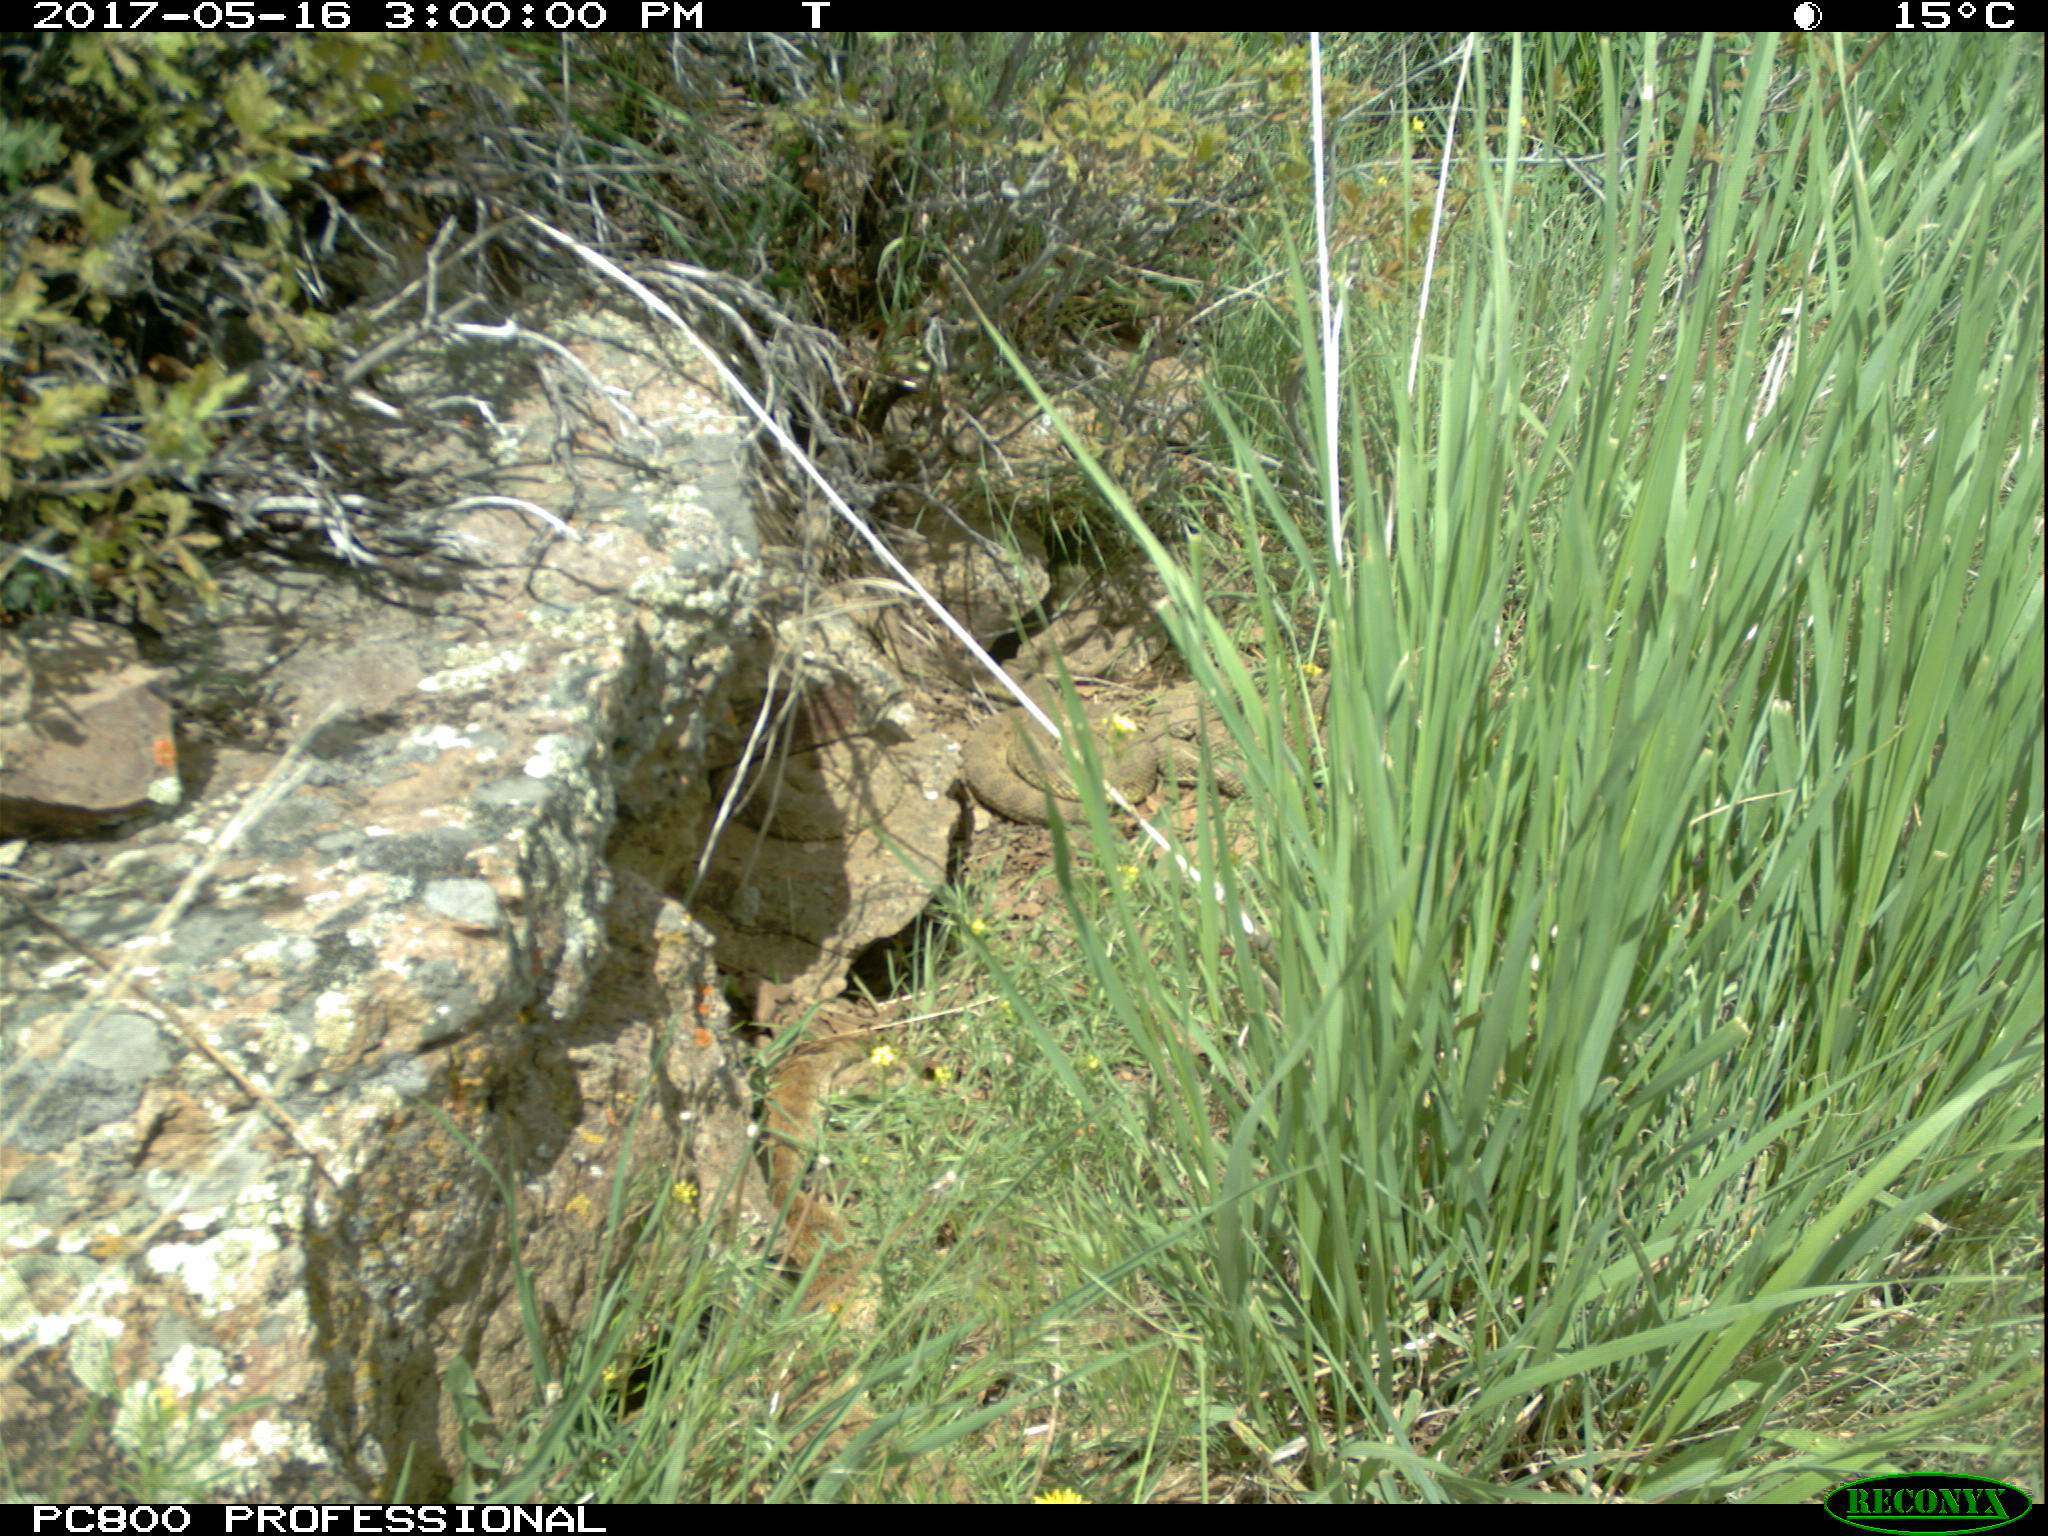snake: (761, 1037, 866, 1388), (953, 658, 1159, 821), (718, 736, 908, 829), (1155, 716, 1255, 800)
